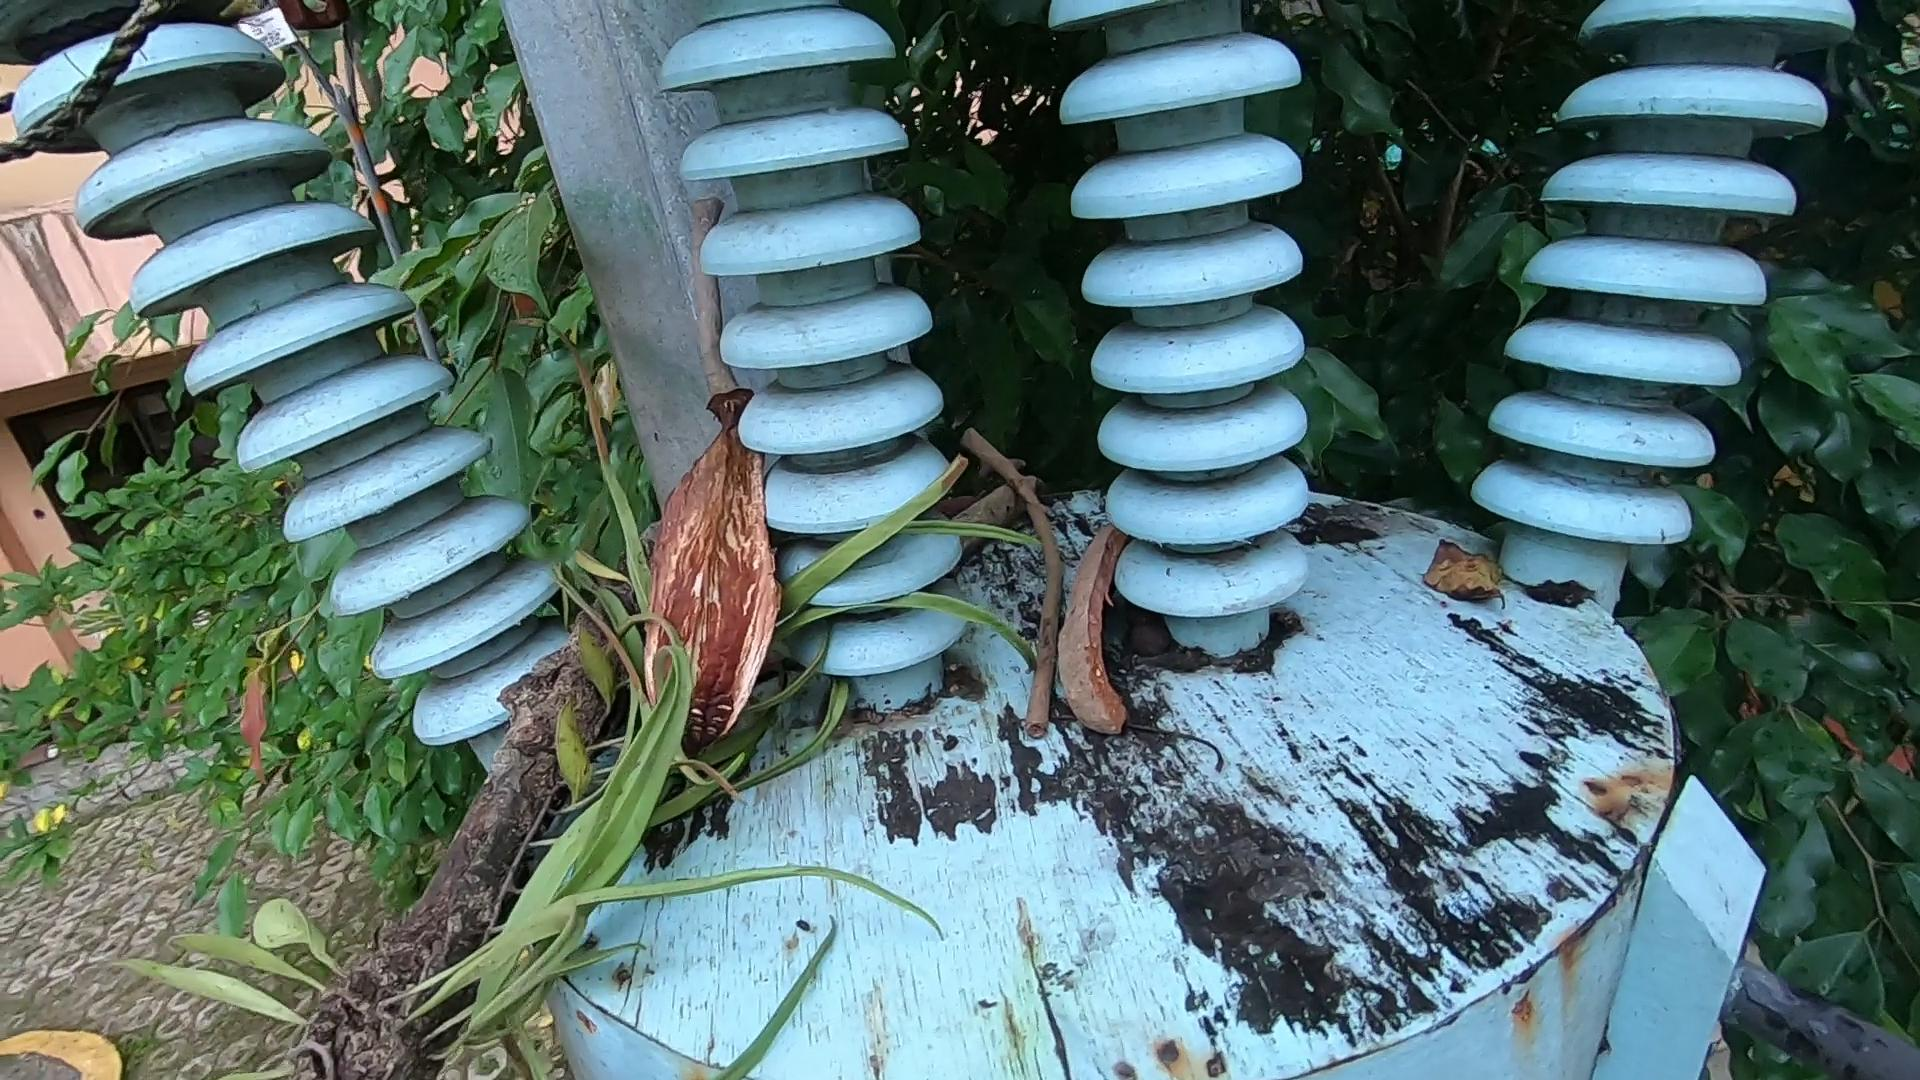branch with leaves: (129, 442, 1004, 1080)
leaf: (1422, 535, 1499, 628)
mahogany fruit: (637, 400, 878, 752), (1018, 467, 1240, 828)
tree branch: (949, 400, 1077, 740), (659, 193, 742, 405)
